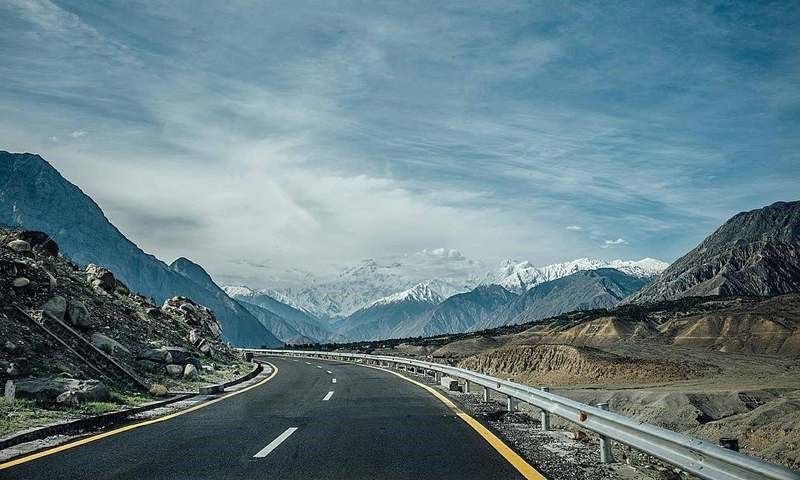leftTrun: (250, 341, 368, 423)
